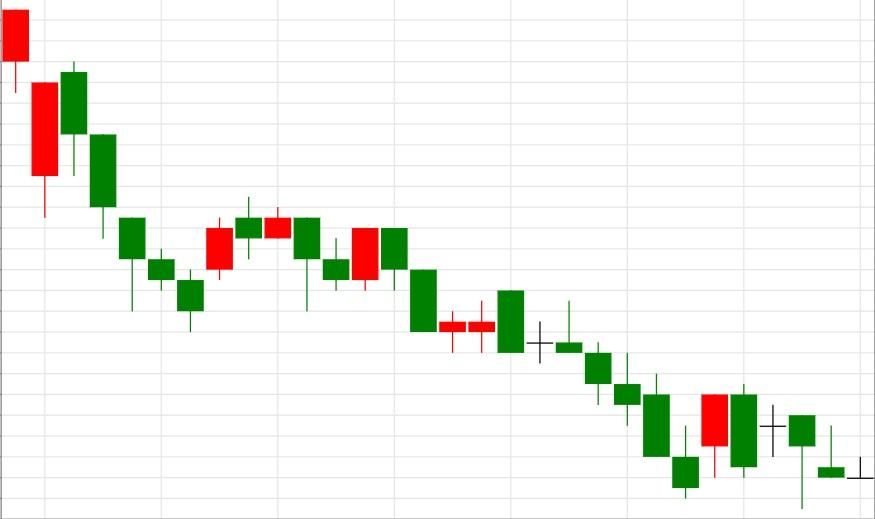bullish_engulfing_rise: (234, 196, 380, 311)
